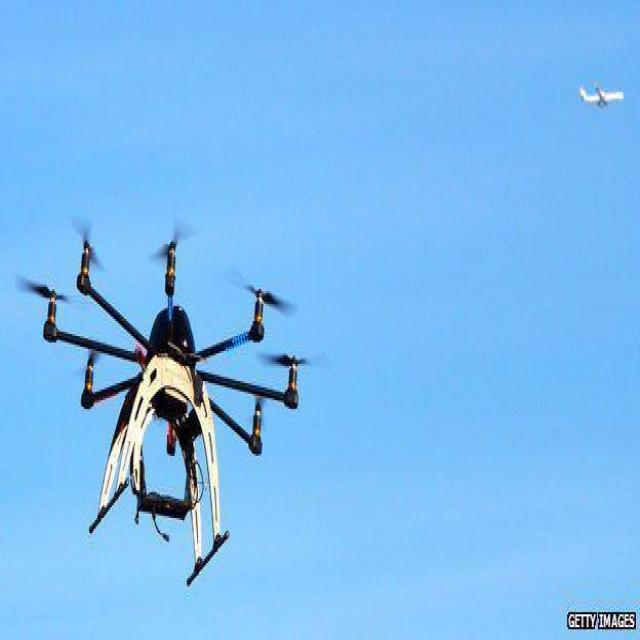UAV: (42, 227, 303, 589)
